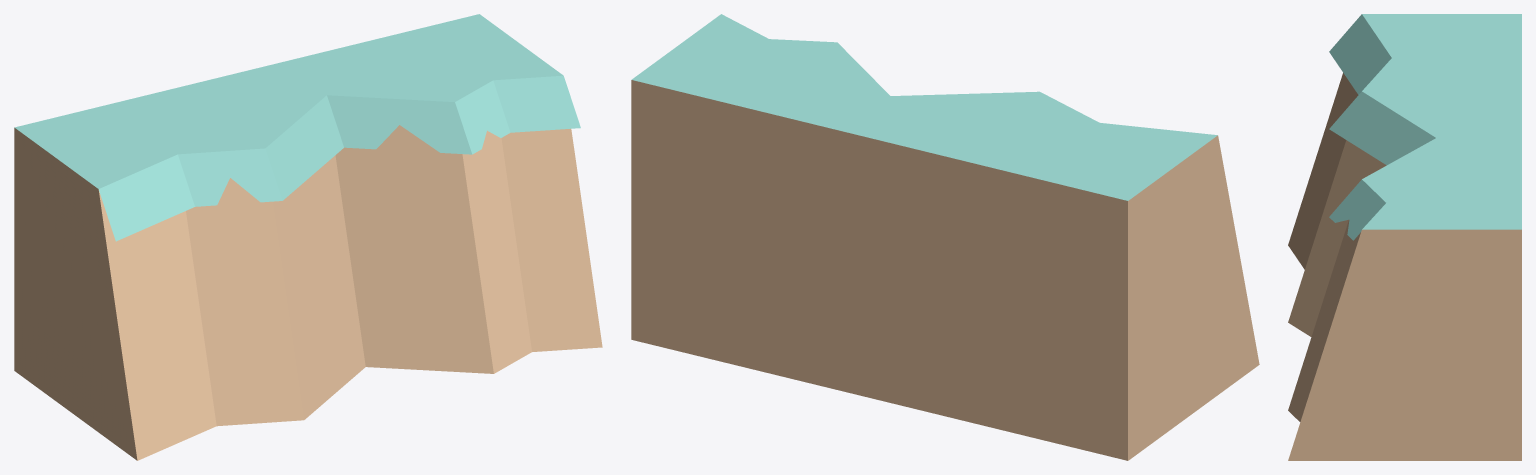
Rendered from cliffBrown_half.gltf.
3 views of the same model, side by side, from view 1: azimuth 30°, elevation 25°; view 2: azimuth 150°, elevation 25°; view 3: azimuth 270°, elevation 25° (orthographic). The views are drawn at different scales.
Visible parts, largest first — view 1: cliffBrown_half; view 2: cliffBrown_half; view 3: cliffBrown_half.
Boxes of the visible parts, left/top/right/bottom form: cliffBrown_half: left=14, top=14, right=602, bottom=460; cliffBrown_half: left=631, top=14, right=1259, bottom=460; cliffBrown_half: left=1288, top=14, right=1521, bottom=460.
Size of the model in its own units: 10 by 5 by 4.58.
